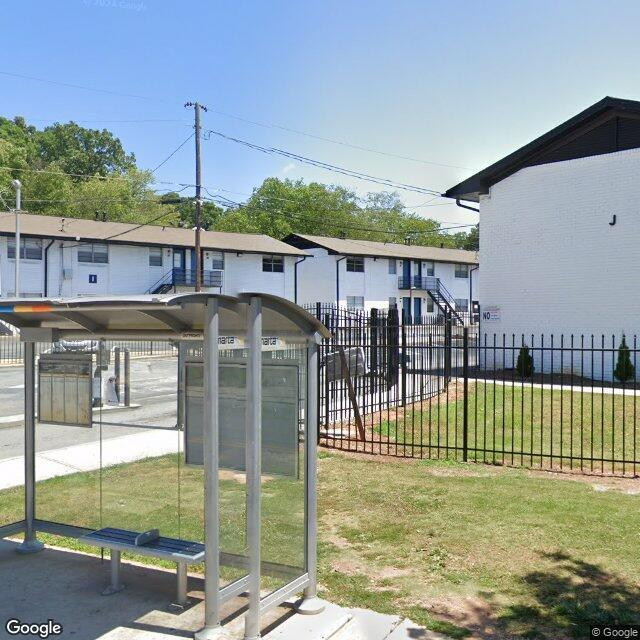seating: (76, 528, 206, 608)
shelter: (1, 290, 334, 636)
